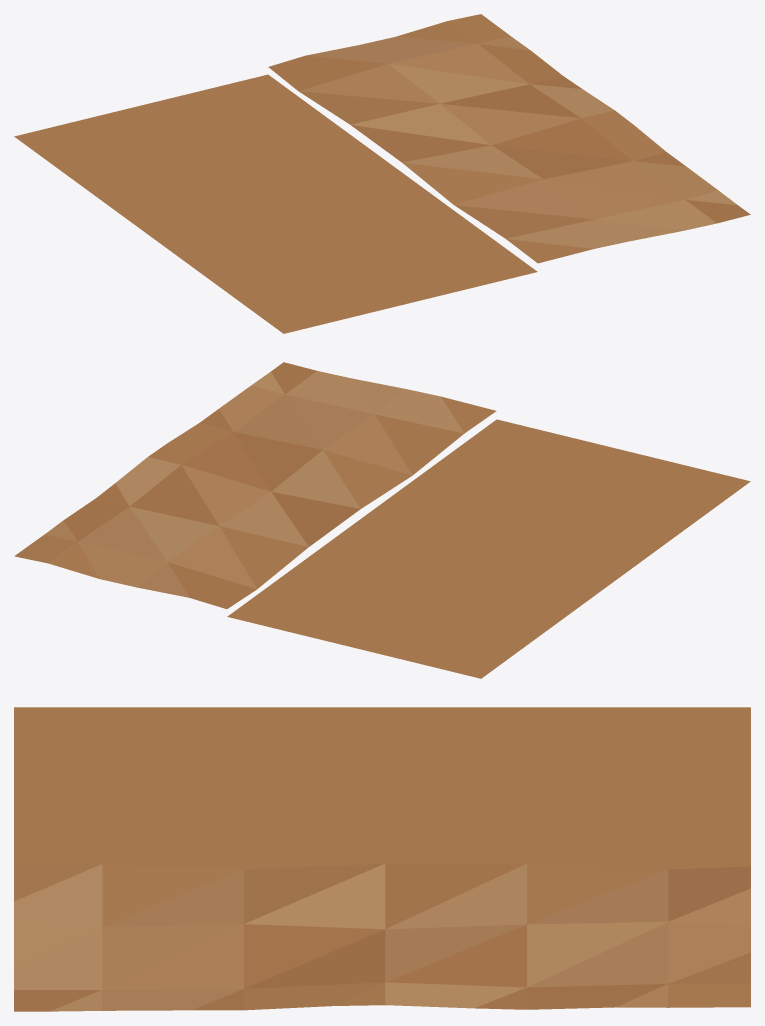
3 views of the same model, one above another, from view 1: azimuth 30°, elevation 25°; view 2: azimuth 150°, elevation 25°; view 3: azimuth 270°, elevation 25° (orthographic). The views are drawn at different scales.
Visible parts, largest first — view 1: baked; view 2: baked; view 3: baked.
Boxes of the visible parts, x1,y1,x2,y2 form: baked: (14,14,750,333); baked: (14,362,750,678); baked: (14,707,750,1011).
Size of the model in its own units: 62.5 by 1.38 by 62.5.
